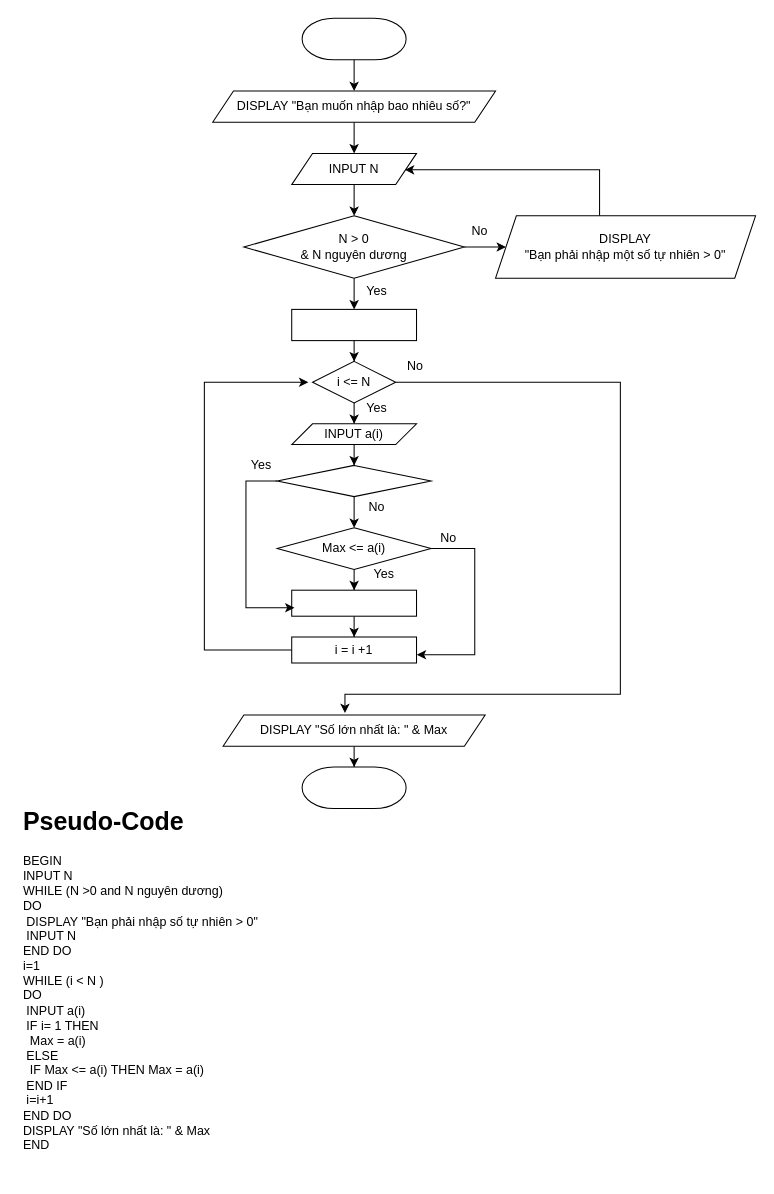
Some shapes in this 774 by 1194 pixel diagram are drawn without their labels. Each missing label, with the box of its shape:
BEGIN: (301, 17, 406, 60)
END: (301, 766, 406, 809)
i = 1: (291, 308, 417, 341)
i=1: (276, 464, 431, 497)
Max = a(i): (291, 589, 417, 616)
